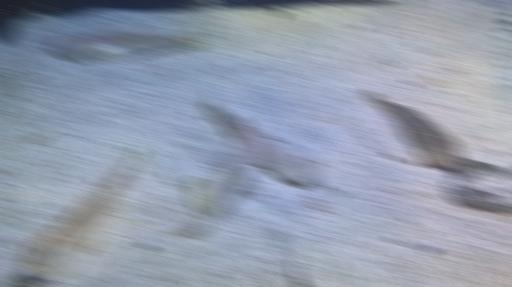Fish: (18, 145, 143, 282), (367, 91, 464, 169), (189, 116, 258, 214), (46, 29, 203, 63), (255, 127, 320, 183), (290, 262, 299, 286)
